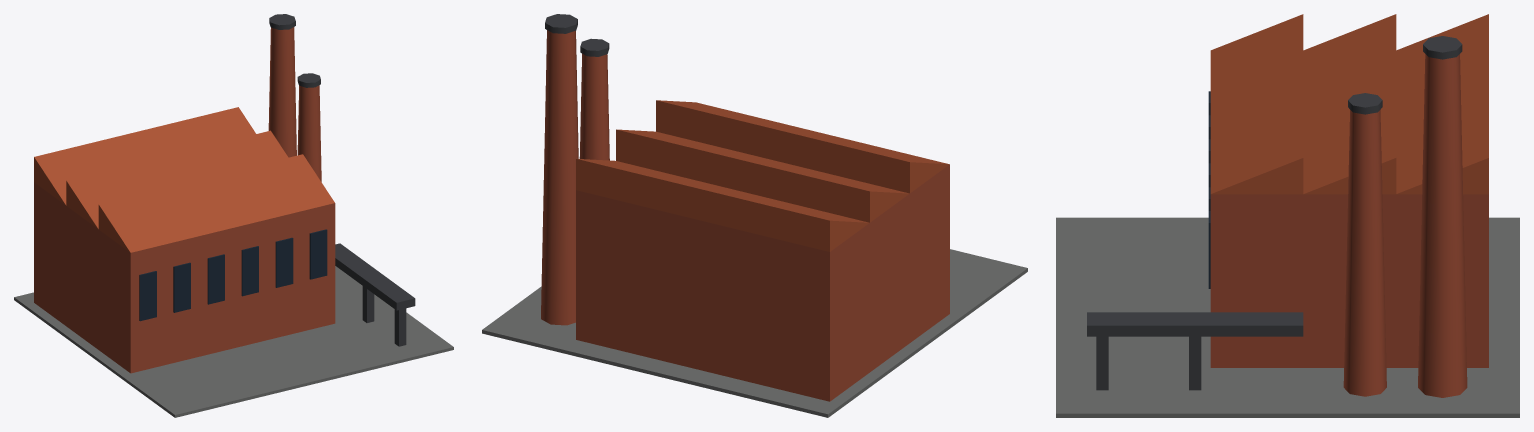
The model's file is bld_special_factory_a04_lod1.glb.
3 renders of one model, left to right at view 1: azimuth 30°, elevation 25°; view 2: azimuth 150°, elevation 25°; view 3: azimuth 270°, elevation 25°, orthographic. The views are drawn at different scales.
Parts seen in each view (by area): view 1: body; view 2: body; view 3: body.
Part boxes in pixels (x1,y1,x2,y2): body: (14, 14, 453, 417); body: (482, 14, 1027, 417); body: (1056, 14, 1519, 417).
Size of the model in its own units: 15 by 12.4 by 15.
